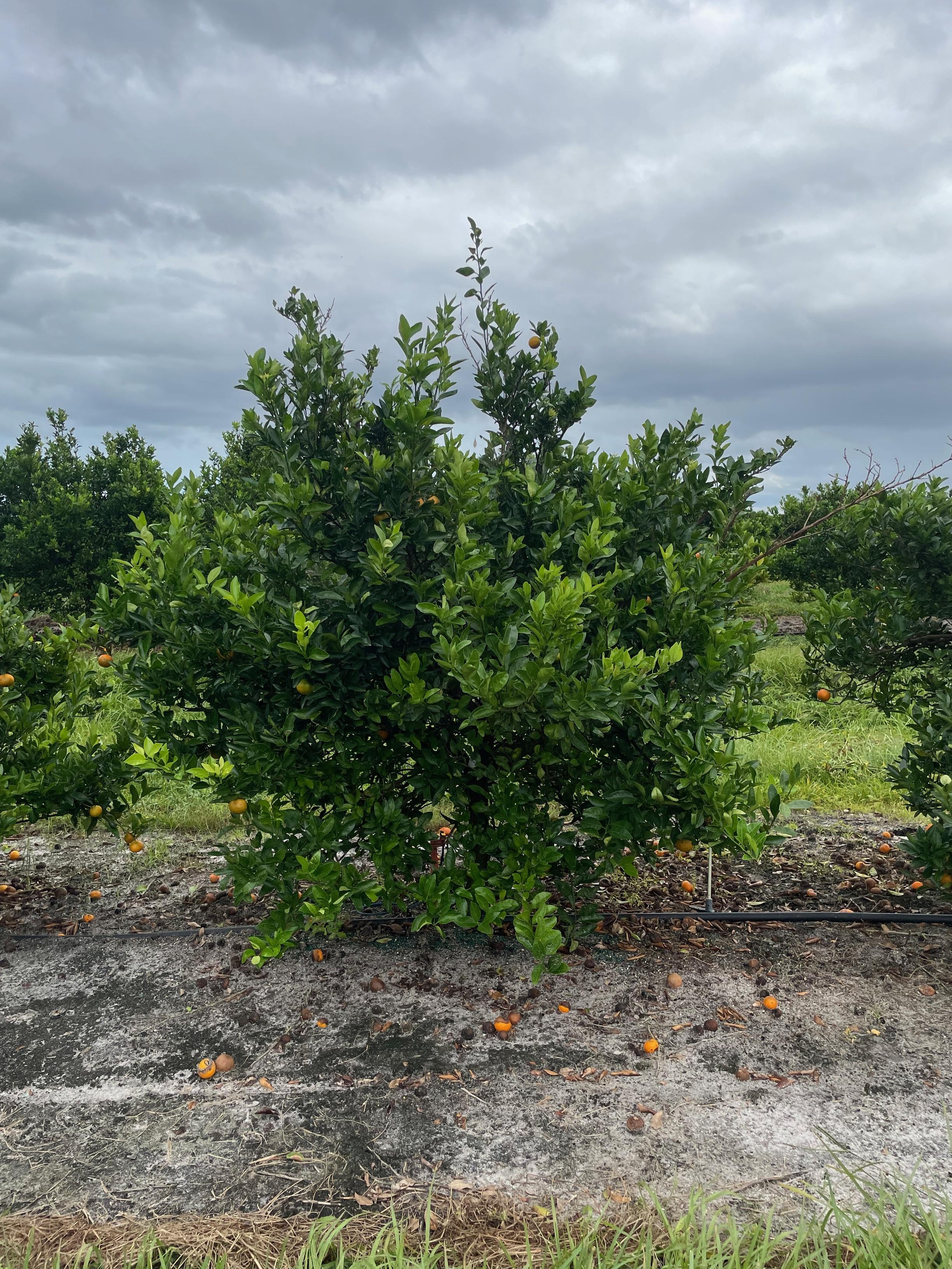fruit_on_ground: (411, 488, 441, 516), (213, 641, 237, 663), (371, 505, 394, 527), (293, 676, 316, 698), (227, 795, 250, 816), (370, 722, 392, 743), (674, 834, 696, 854), (935, 868, 952, 890), (96, 651, 115, 669), (0, 670, 17, 690), (87, 802, 105, 820), (815, 687, 832, 704), (127, 838, 145, 854), (527, 334, 543, 350), (122, 831, 138, 845)
fruit_on_tree: (195, 1057, 217, 1080), (213, 1051, 236, 1073), (368, 974, 387, 993), (493, 1015, 512, 1033), (665, 971, 684, 989), (761, 993, 779, 1010), (642, 1037, 660, 1054), (310, 946, 326, 963), (703, 1016, 720, 1032), (436, 823, 453, 838), (679, 879, 695, 894), (507, 1010, 522, 1025), (7, 847, 22, 862), (556, 1000, 572, 1014), (863, 876, 878, 890), (207, 871, 222, 884), (747, 956, 761, 968), (89, 887, 103, 899), (158, 883, 172, 895), (316, 1016, 329, 1028), (82, 911, 95, 923), (910, 878, 923, 890), (878, 841, 891, 853), (853, 859, 867, 870), (4, 884, 18, 894), (805, 887, 817, 898), (880, 829, 892, 839), (0, 883, 9, 894)
